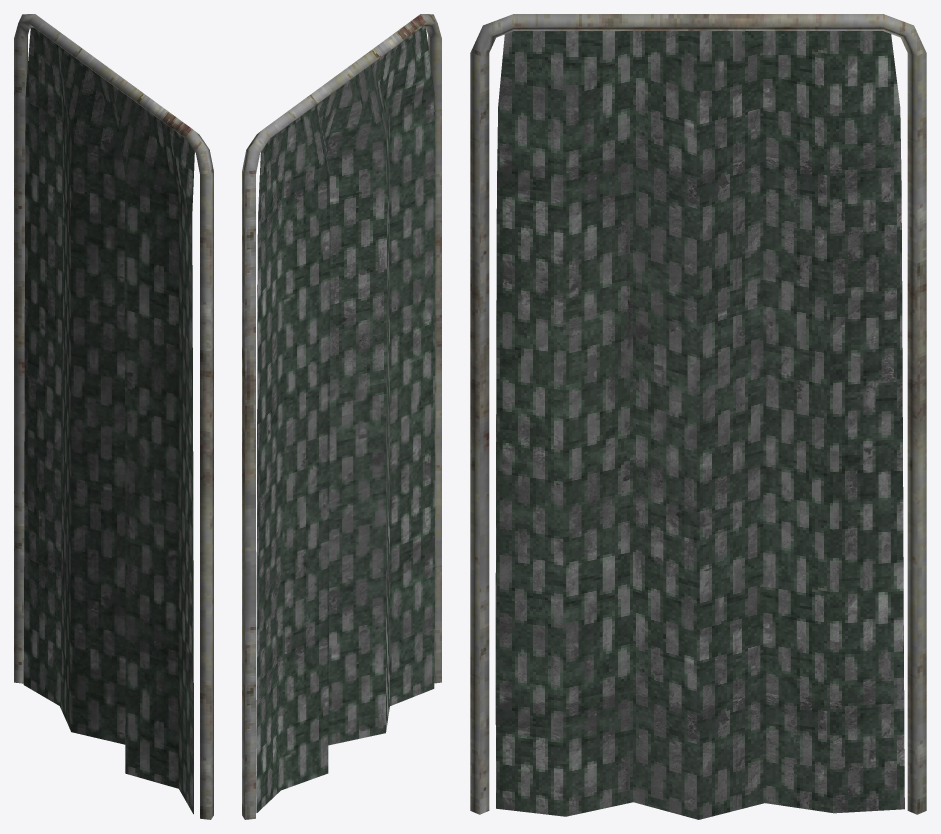
File: _Curtains_S1.FBX
3 views of the same model, side by side, from view 1: azimuth 30°, elevation 25°; view 2: azimuth 150°, elevation 25°; view 3: azimuth 270°, elevation 25° (orthographic). The views are drawn at different scales.
Visible parts, largest first — view 1: _Curtains_S1; view 2: _Curtains_S1; view 3: _Curtains_S1.
Part boxes in pixels (x1,y1,x2,y2): _Curtains_S1: (14, 14, 213, 819); _Curtains_S1: (242, 14, 441, 819); _Curtains_S1: (470, 14, 926, 819).
Size of the model in its own units: 9.73 by 186 by 96.42.
Materials: 2 (2 with a texture image).
